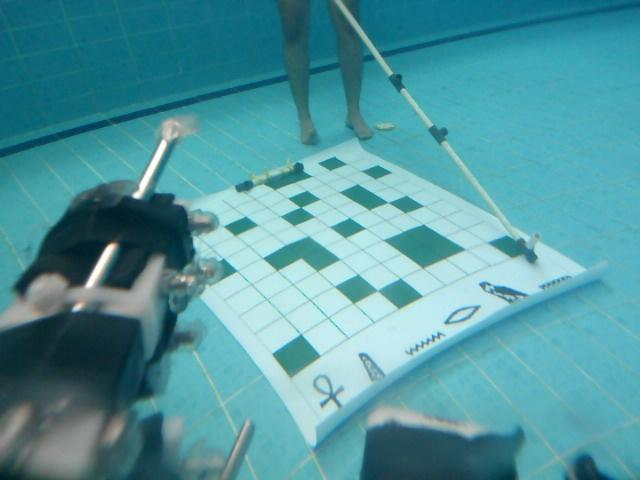Ankh: (307, 373, 349, 421)
Mouth: (443, 303, 486, 326)
Owl: (474, 274, 532, 309)
Reed: (348, 351, 391, 391)
Water: (401, 326, 444, 357)
